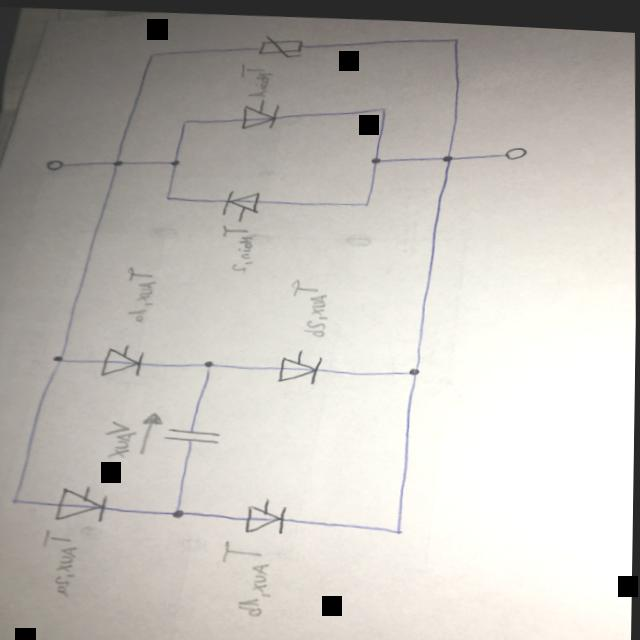capacitor: (163, 422, 223, 444)
junction: (202, 356, 216, 368), (171, 504, 186, 515), (51, 351, 65, 362), (111, 155, 123, 165), (408, 361, 421, 370), (440, 148, 454, 156), (369, 151, 382, 159), (393, 522, 405, 530), (168, 155, 180, 162), (374, 101, 388, 107), (10, 495, 20, 503), (180, 115, 190, 123), (145, 48, 156, 55), (450, 30, 460, 36), (361, 195, 371, 201), (163, 191, 172, 197)
terminal: (501, 138, 528, 154), (43, 156, 63, 169)
text: (218, 533, 276, 615), (40, 524, 83, 598), (288, 271, 331, 334), (124, 261, 158, 322), (218, 219, 257, 271), (103, 415, 140, 460), (237, 57, 274, 95)
thyristor: (52, 482, 111, 523), (241, 497, 291, 533), (275, 349, 324, 383), (99, 343, 146, 376), (240, 96, 280, 127), (220, 184, 260, 213)
